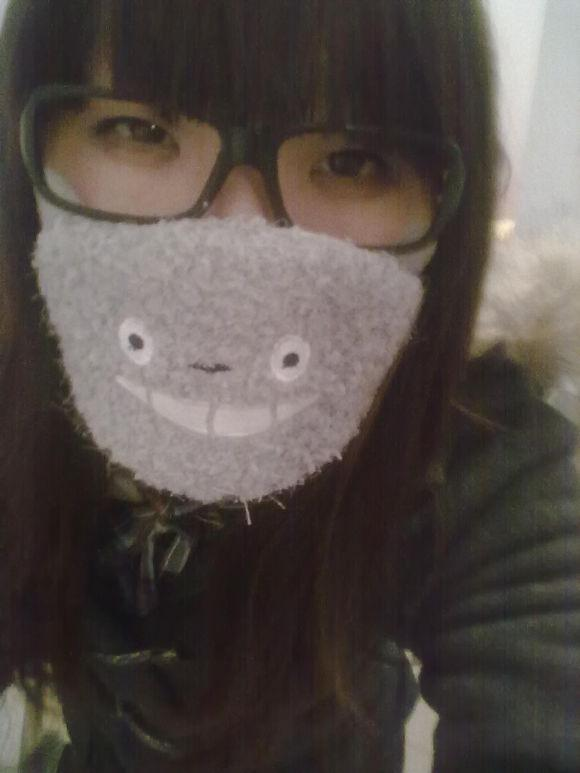OK: (41, 65, 450, 474)
